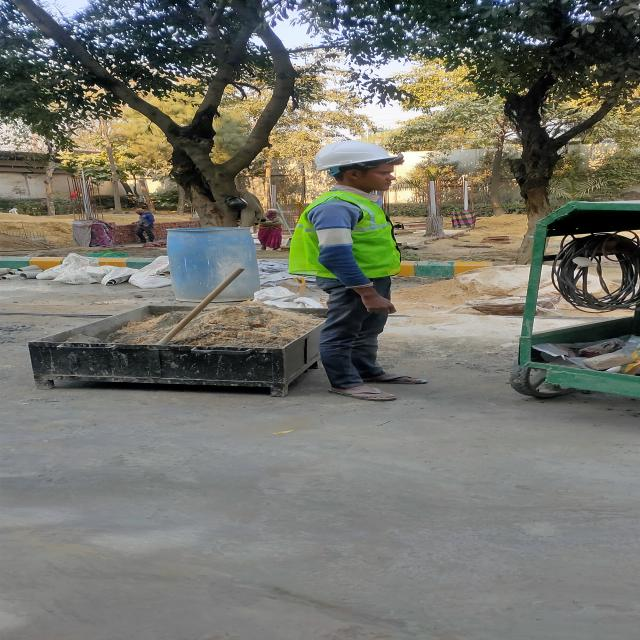safe: (289, 140, 426, 400)
unsafe: (259, 209, 282, 250), (132, 208, 154, 243)
